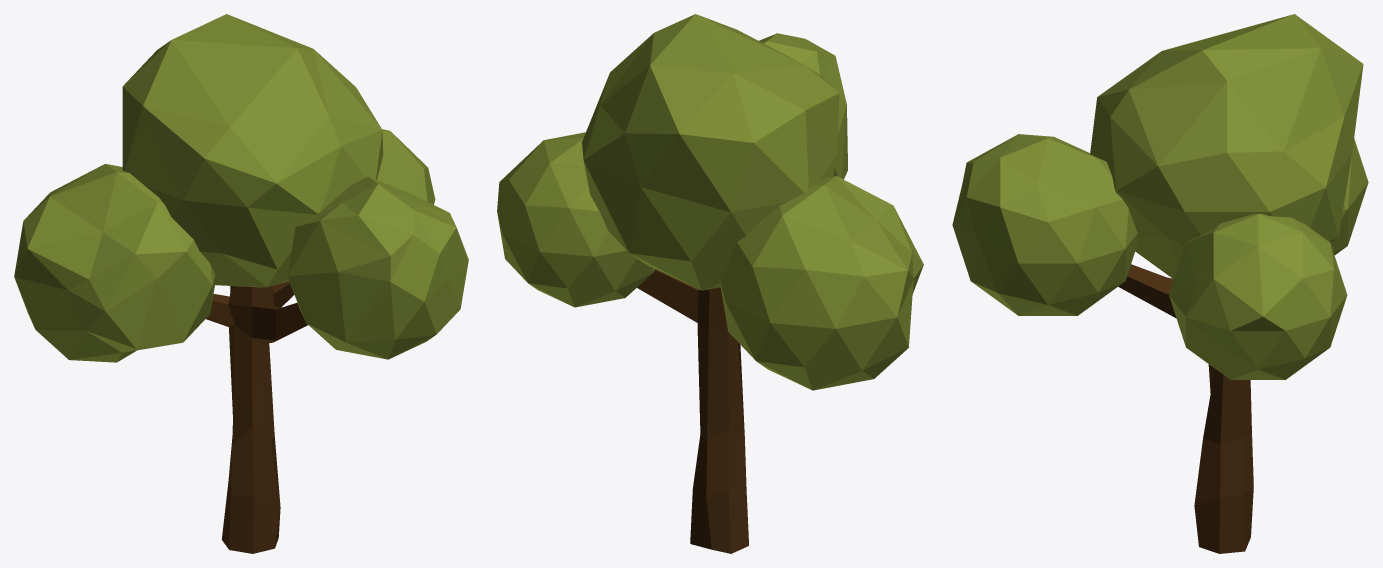
The model's file is tree_02.fbx.
3 views of the same model, side by side, from view 1: azimuth 30°, elevation 25°; view 2: azimuth 150°, elevation 25°; view 3: azimuth 270°, elevation 25° (orthographic). The views are drawn at different scales.
Visible parts, largest first — view 1: Cylinder; view 2: Cylinder; view 3: Cylinder.
Boxes of the visible parts, box(x1,y1,x2,y2) form: Cylinder: box(14, 14, 468, 553); Cylinder: box(497, 14, 923, 553); Cylinder: box(952, 14, 1368, 553).
Size of the model in its own units: 850 by 1003 by 744.
